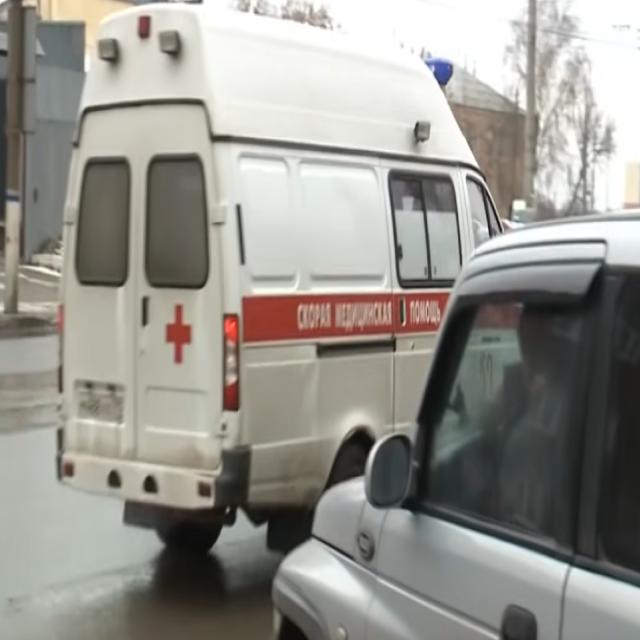ambulance: (51, 1, 526, 575)
non emergency car: (266, 199, 640, 640)
